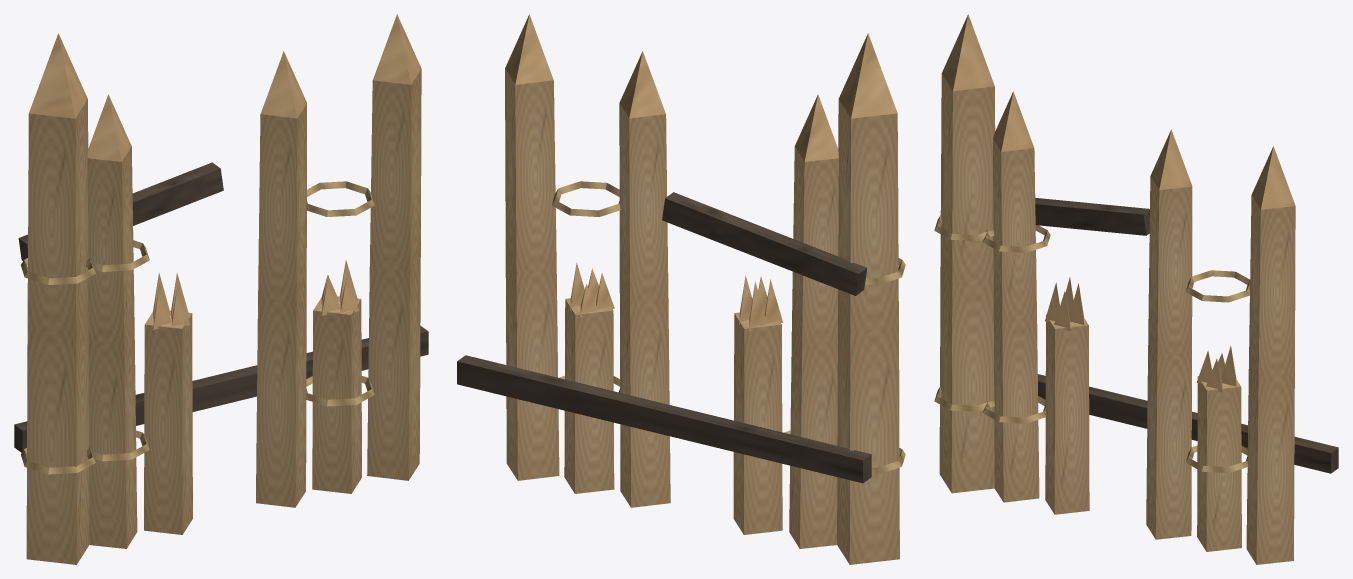
File: SM_WoodenWall_Damaged_LOD1.fbx
The picture shows the model from 3 angles, left to right: view 1: azimuth 30°, elevation 25°; view 2: azimuth 150°, elevation 25°; view 3: azimuth 330°, elevation 25°; orthographic projection. The views are drawn at different scales.
Parts seen in each view (by area): view 1: SM_WoodenWall_Damaged_LOD1; view 2: SM_WoodenWall_Damaged_LOD1; view 3: SM_WoodenWall_Damaged_LOD1.
Boxes of the visible parts, left/top/right/bottom form: SM_WoodenWall_Damaged_LOD1: left=14, top=14, right=428, bottom=564; SM_WoodenWall_Damaged_LOD1: left=457, top=14, right=905, bottom=564; SM_WoodenWall_Damaged_LOD1: left=934, top=14, right=1338, bottom=564.
Bounding box in the file's own units: 8.59 × 10.14 × 1.56.
1 material, 1 textured.
